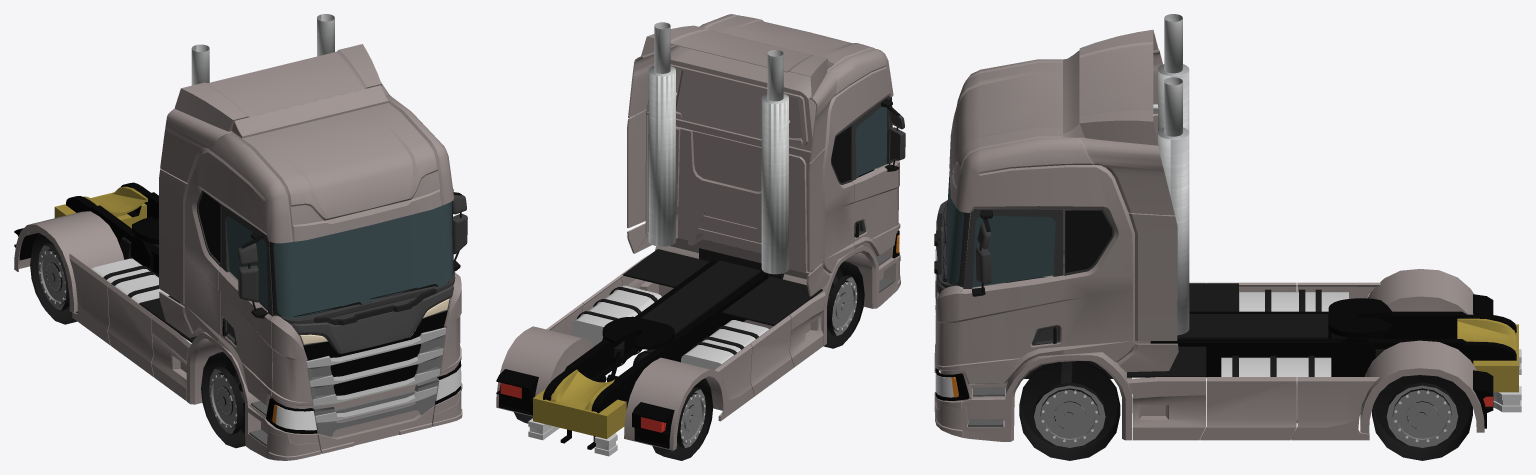
The model's file is truck.fbx.
3 views of the same model, side by side, from view 1: azimuth 30°, elevation 25°; view 2: azimuth 150°, elevation 25°; view 3: azimuth 270°, elevation 25° (orthographic). The views are drawn at different scales.
Parts seen in each view (by area): view 1: Body.001, Cylinder, Cylinder.001; view 2: Body.001, Cylinder, Cylinder.001; view 3: Body.001, Cylinder.001, Cylinder.
Part boxes in pixels (x1,y1,x2,y2): Body.001: [14, 44, 467, 460]; Cylinder: [191, 44, 209, 85]; Cylinder.001: [317, 14, 334, 56]; Body.001: [496, 14, 905, 460]; Cylinder: [761, 50, 789, 274]; Cylinder.001: [648, 22, 676, 246]; Body.001: [934, 29, 1521, 460]; Cylinder.001: [1158, 77, 1189, 335]; Cylinder: [1153, 14, 1189, 131].
Bounding box in the file's own units: 539 × 803 × 1161.
30 materials, 1 textured.
